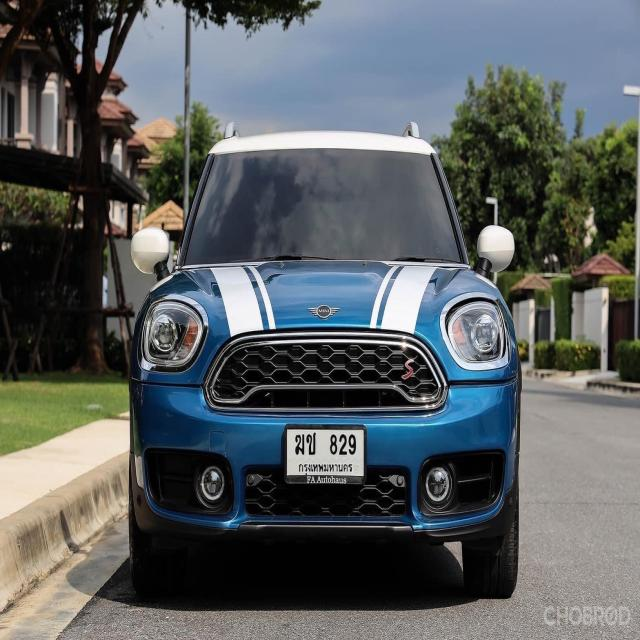license_plate: (284, 424, 367, 484)
